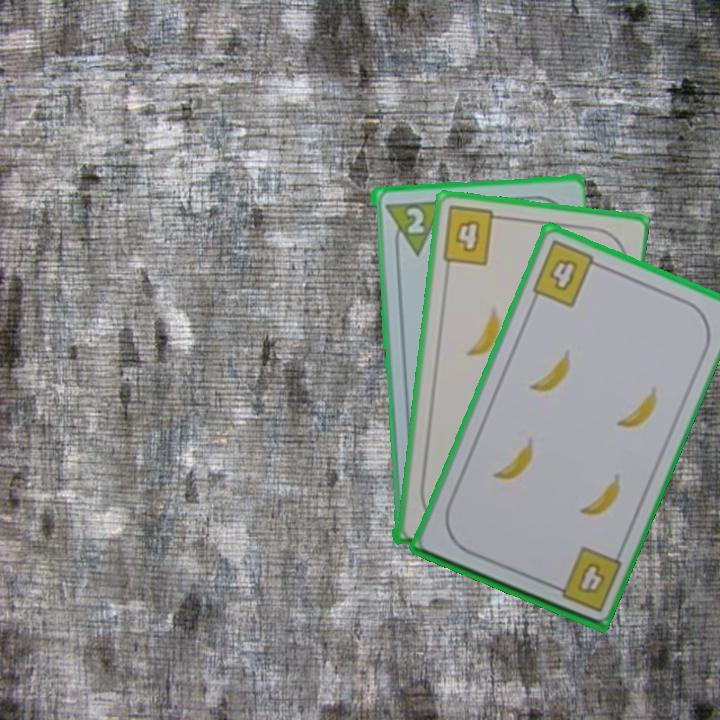2p: (401, 203, 427, 236)
4b: (528, 236, 605, 310), (545, 545, 624, 615), (438, 203, 507, 268)
